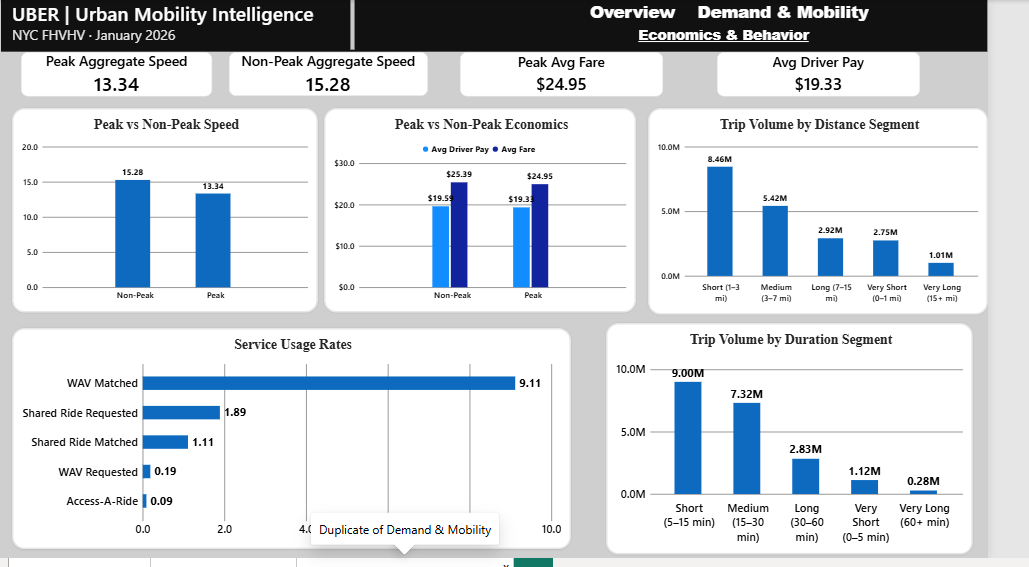

The dashboard page shown, as its layout file describes it:
{"tool":"powerbi","page":{"name":"Duplicate of Demand & Mobility","canvas":[1920,1080],"ordinal":2},"visuals":[{"type":"shape","title":"UBER | Urban Mobility Intelligence","box":[10.6,0,1909,100],"z":0},{"type":"textbox","box":[31.9,0,663.3,99.9],"z":1000},{"type":"textbox","box":[1148,0,168,51],"z":2000},{"type":"textbox","box":[1350,0,344.4,51],"z":3000},{"type":"textbox","box":[1179.9,48.9,455,51],"z":4000},{"type":"textbox","box":[1330.2,232.6,332.6,48.8],"z":5000},{"type":"textbox","box":[1444.2,281.4,127.9,65.1],"z":6000},{"type":"textbox","box":[1388.4,346.5,216.3,60.5],"z":7000},{"type":"textbox","box":[1330.2,407,311.6,132.6],"z":8000},{"type":"textbox","box":[1290.7,565.1,490.7,111.6],"z":9000},{"type":"cardVisual","title":"Total Trips","fields":{"Data":["Sum(Peak_Performance.Aggregate Speed)"]},"box":[48.9,99.9,370,86],"z":10000},{"type":"cardVisual","title":"Total Trips","fields":{"Data":["Sum(Peak_Economics.Avg Fare)"]},"box":[897.2,99.9,392.6,85.8],"z":11000},{"type":"cardVisual","title":"Total Trips","fields":{"Data":["Sum(Peak_Performance.Aggregate Speed)"]},"box":[450.7,99.9,384.8,85],"z":12000},{"type":"cardVisual","title":"Total Trips","fields":{"Data":["Sum(Peak_Economics.Avg Driver Pay)"]},"box":[1394.6,99.9,392.6,85.8],"z":13000},{"type":"clusteredColumnChart","title":"Peak vs Non-Peak Speed","fields":{"Category":["Peak_Performance.Period"],"Y":["Sum(Peak_Performance.Aggregate Speed)"]},"box":[31.9,208.3,592,396],"z":14000},{"type":"clusteredColumnChart","title":"Peak vs Non-Peak Economics","fields":{"Category":["Peak_Economics.Period"],"Y":["Sum(Peak_Economics.Avg Driver Pay)","Sum(Peak_Economics.Avg Fare)"]},"box":[635.7,208.3,604,396],"z":15000},{"type":"clusteredColumnChart","title":"Trip Volume by Distance Segment","fields":{"Category":["Distance_Segments.Distance Segment"],"Y":["Sum(Distance_Segments.Trips)"]},"box":[1262.8,208.3,658,400],"z":16000},{"type":"clusteredColumnChart","title":"Trip Volume by Duration Segment","fields":{"Category":["Duration_Segments.Duration Segment"],"Y":["Sum(Duration_Segments.Trips)"]},"box":[1179.9,625,710,448],"z":17000},{"type":"clusteredBarChart","title":"Service Usage Rates","fields":{"Category":["Service_Summary.Service Metric"],"Y":["Sum(Service_Summary.Yes Rate %)"]},"box":[31.9,635.7,1082,428],"z":18000}]}

Visuals, with their boxes in screenshot pixels (x1, y1, x2, y2), scaled from the page's 1920x1080 canvas onto the 1029x567 screenshot:
"UBER | Urban Mobility Intelligence" shape: {"left": 6, "top": 0, "right": 1028, "bottom": 52}
textbox: {"left": 17, "top": 0, "right": 373, "bottom": 52}
textbox: {"left": 615, "top": 0, "right": 705, "bottom": 27}
textbox: {"left": 724, "top": 0, "right": 908, "bottom": 27}
textbox: {"left": 632, "top": 26, "right": 876, "bottom": 52}
textbox: {"left": 713, "top": 122, "right": 891, "bottom": 148}
textbox: {"left": 774, "top": 148, "right": 843, "bottom": 182}
textbox: {"left": 744, "top": 182, "right": 860, "bottom": 214}
textbox: {"left": 713, "top": 214, "right": 880, "bottom": 283}
textbox: {"left": 692, "top": 297, "right": 955, "bottom": 355}
"Total Trips" cardVisual: {"left": 26, "top": 52, "right": 225, "bottom": 98}
"Total Trips" cardVisual: {"left": 481, "top": 52, "right": 691, "bottom": 97}
"Total Trips" cardVisual: {"left": 242, "top": 52, "right": 448, "bottom": 97}
"Total Trips" cardVisual: {"left": 747, "top": 52, "right": 958, "bottom": 97}
"Peak vs Non-Peak Speed" clusteredColumnChart: {"left": 17, "top": 109, "right": 334, "bottom": 317}
"Peak vs Non-Peak Economics" clusteredColumnChart: {"left": 341, "top": 109, "right": 664, "bottom": 317}
"Trip Volume by Distance Segment" clusteredColumnChart: {"left": 677, "top": 109, "right": 1028, "bottom": 319}
"Trip Volume by Duration Segment" clusteredColumnChart: {"left": 632, "top": 328, "right": 1013, "bottom": 563}
"Service Usage Rates" clusteredBarChart: {"left": 17, "top": 334, "right": 597, "bottom": 558}
